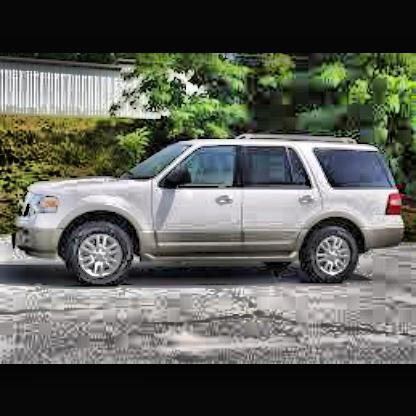Ford Expedition EL SUV 2009: (13, 133, 412, 285)
